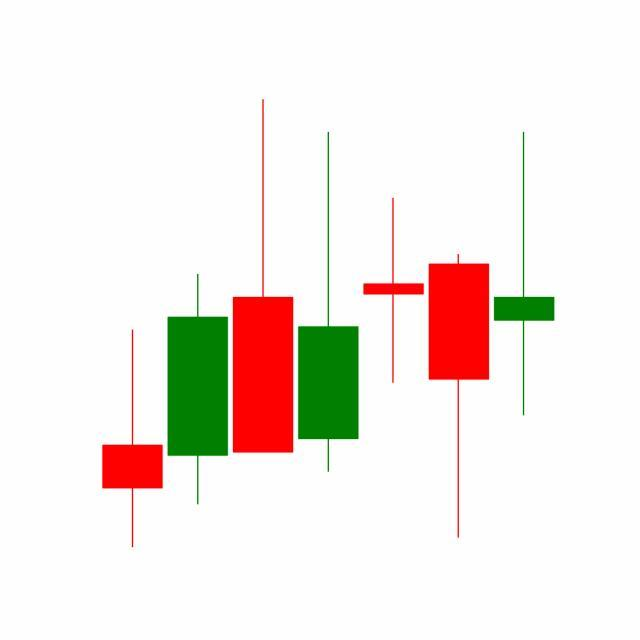Hikkake Pattern: (165, 99, 492, 542)
